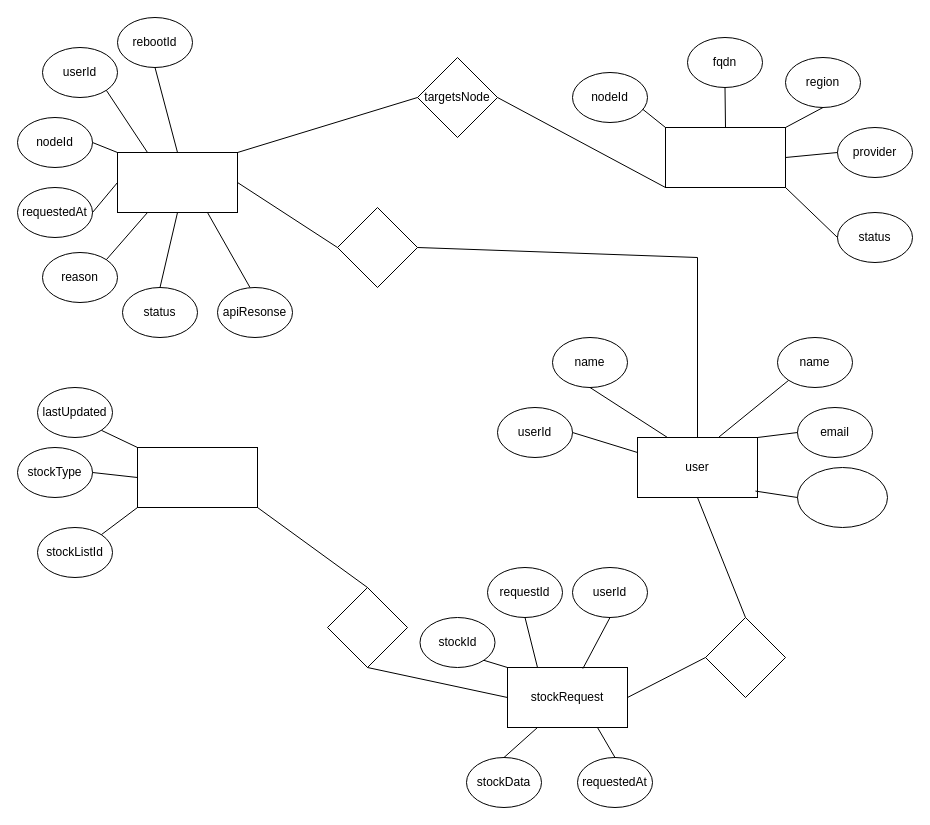
Image size: 930x825. Some labels were removed from this diagram. The centre of each missing label's shape, as x and y in pixels:
"getsStock List" goes at pixel 367 627.
"node" goes at pixel 725 157.
"passwordHash" goes at pixel 842 497.
"performs Reboot" goes at pixel 377 247.
"rebootRequest" goes at pixel 177 182.
"requests Stock" goes at pixel 745 657.
"stockList" goes at pixel 197 477.
